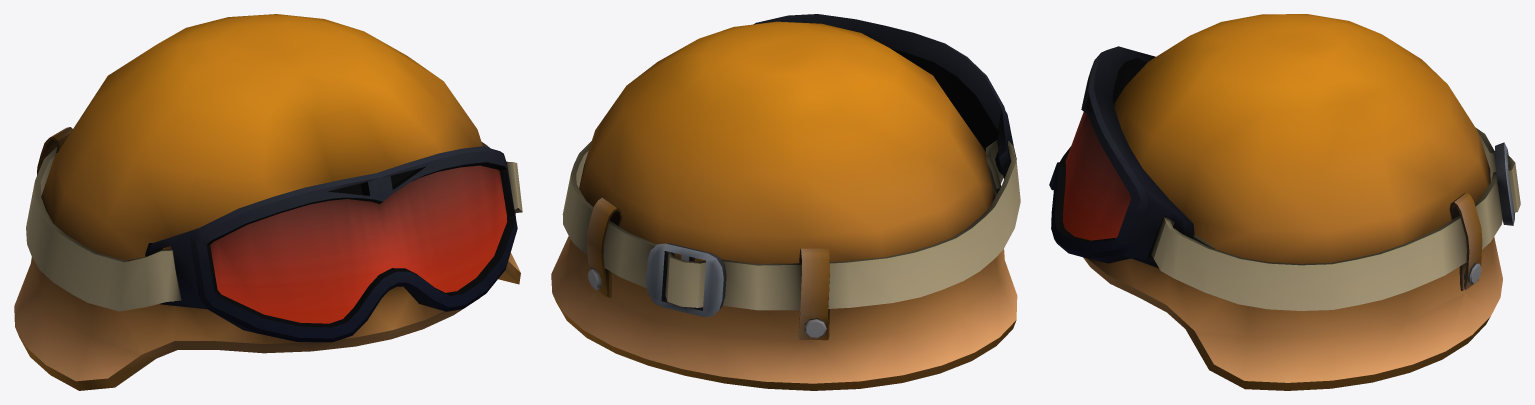
Rendered from Cap_Tank_Helmet.gltf.
3 views of the same model, side by side, from view 1: azimuth 30°, elevation 25°; view 2: azimuth 150°, elevation 25°; view 3: azimuth 270°, elevation 25° (orthographic). The views are drawn at different scales.
Parts seen in each view (by area): view 1: Cap_Tank_Helmet; view 2: Cap_Tank_Helmet; view 3: Cap_Tank_Helmet.
Part boxes in pixels (x1,y1,x2,y2): Cap_Tank_Helmet: [14, 14, 522, 390]; Cap_Tank_Helmet: [551, 14, 1020, 390]; Cap_Tank_Helmet: [1049, 14, 1520, 390].
Size of the model in its own units: 1.07 by 0.6067 by 1.05.
Materials: 2 (2 with a texture image).
